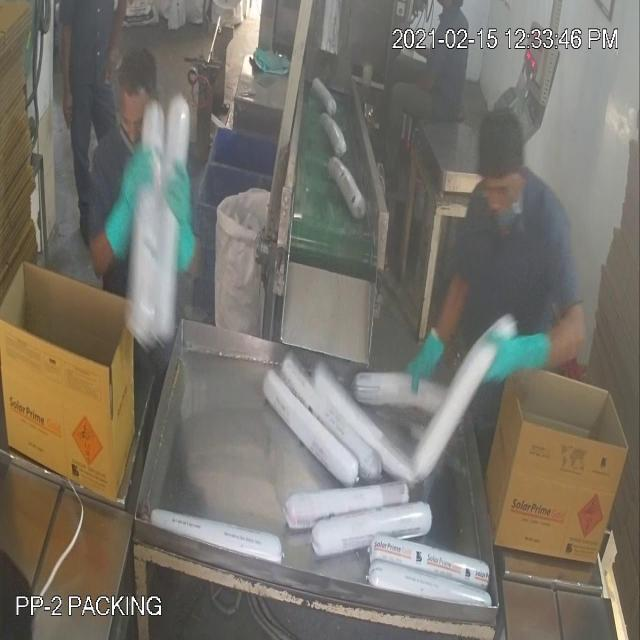gloves: (480, 321, 562, 398), (390, 314, 452, 397)
no-gloves: (57, 9, 79, 131), (102, 1, 126, 91)
